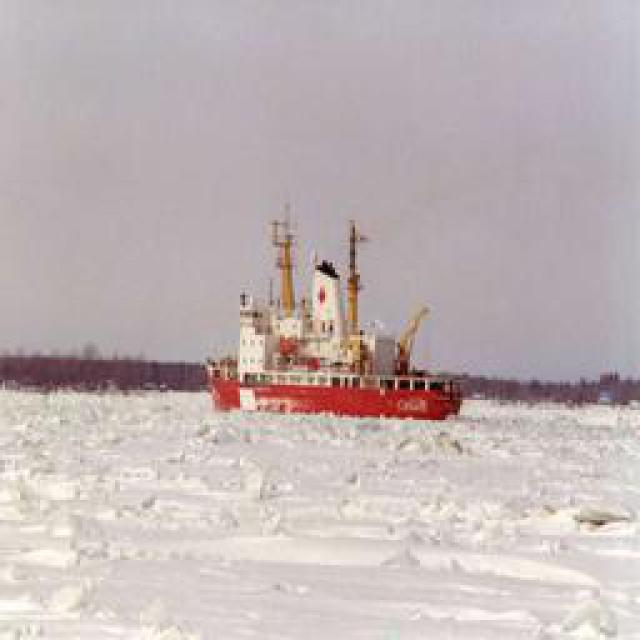Ship: (202, 199, 460, 432)
